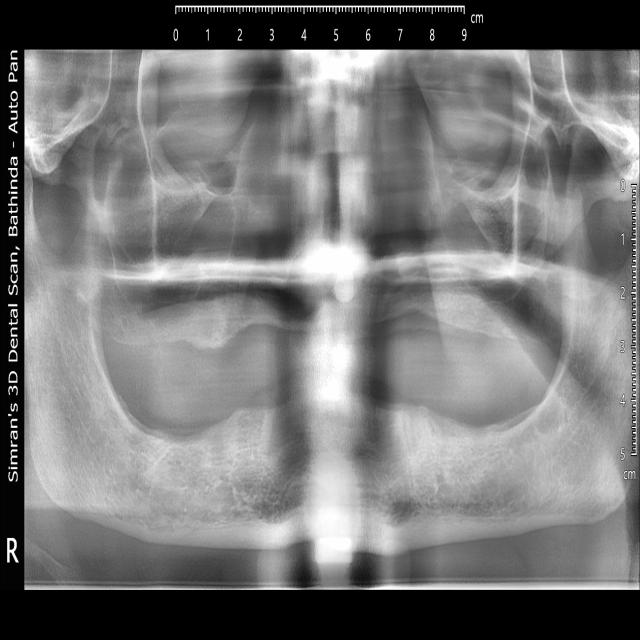Missing teeth: (161, 309, 514, 381), (157, 388, 488, 455)
